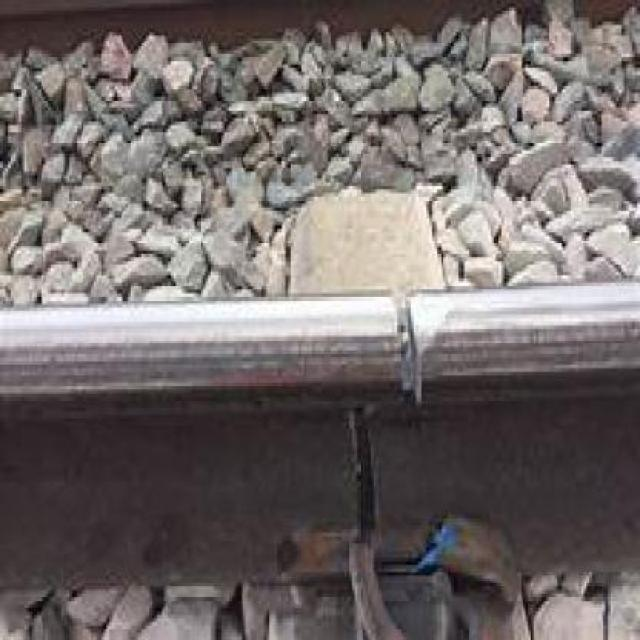defective: (18, 167, 640, 628)
